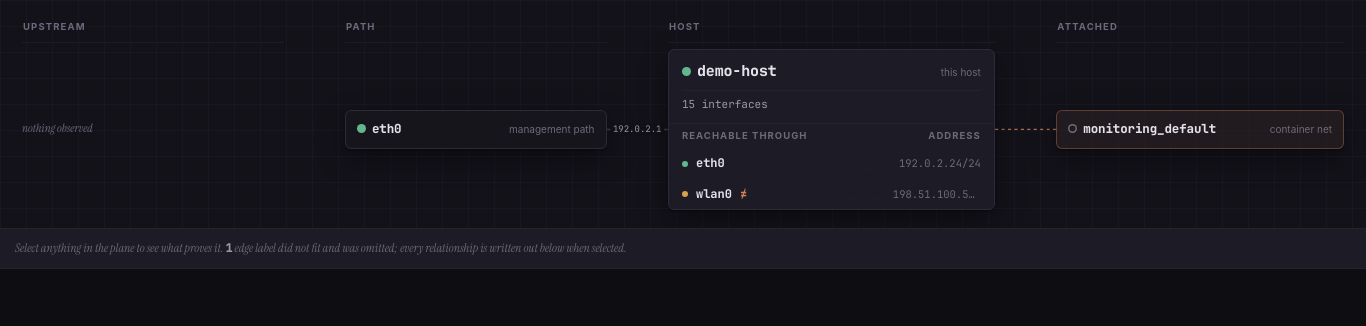
Scenario: selection › deselects when the same node is pressed again
Click the button "monitoring_default container net": (1200, 129) [1057,111,1343,148]
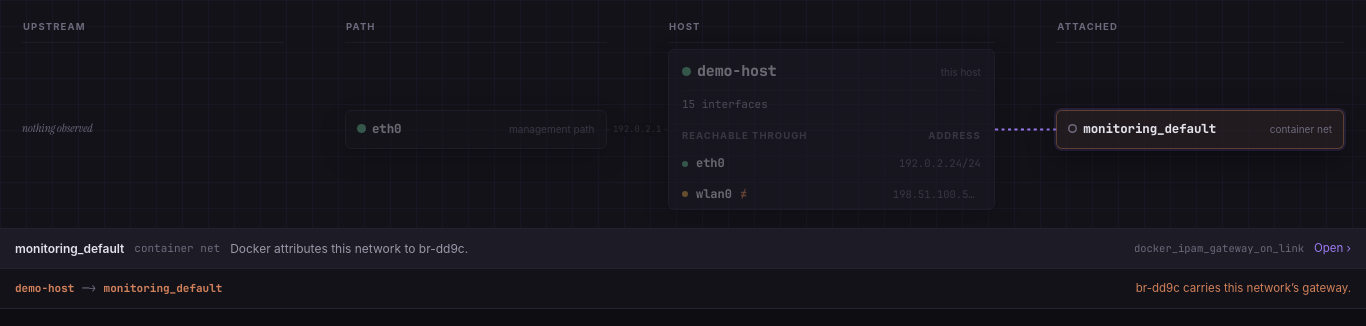
Click the button "monitoring_default container net": (1200, 129) [1057,111,1343,148]
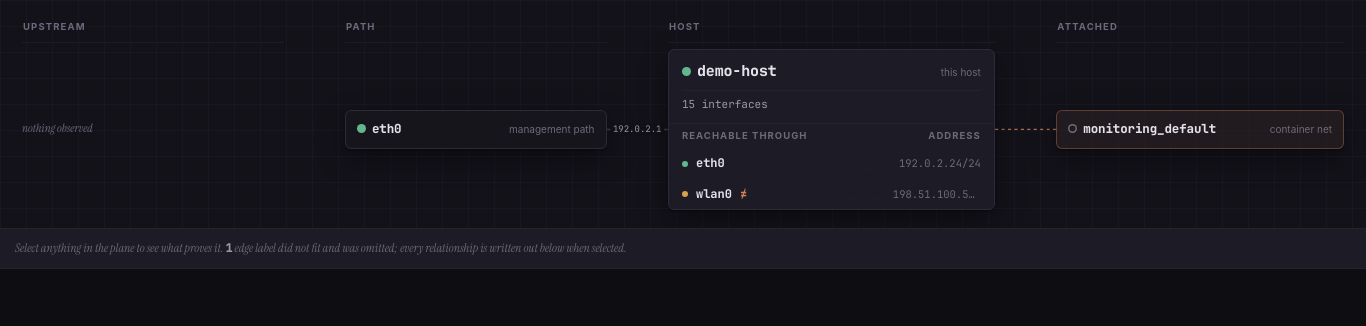
Now the text "Select anything in the plane" is shown, box [15,240,223,256]
